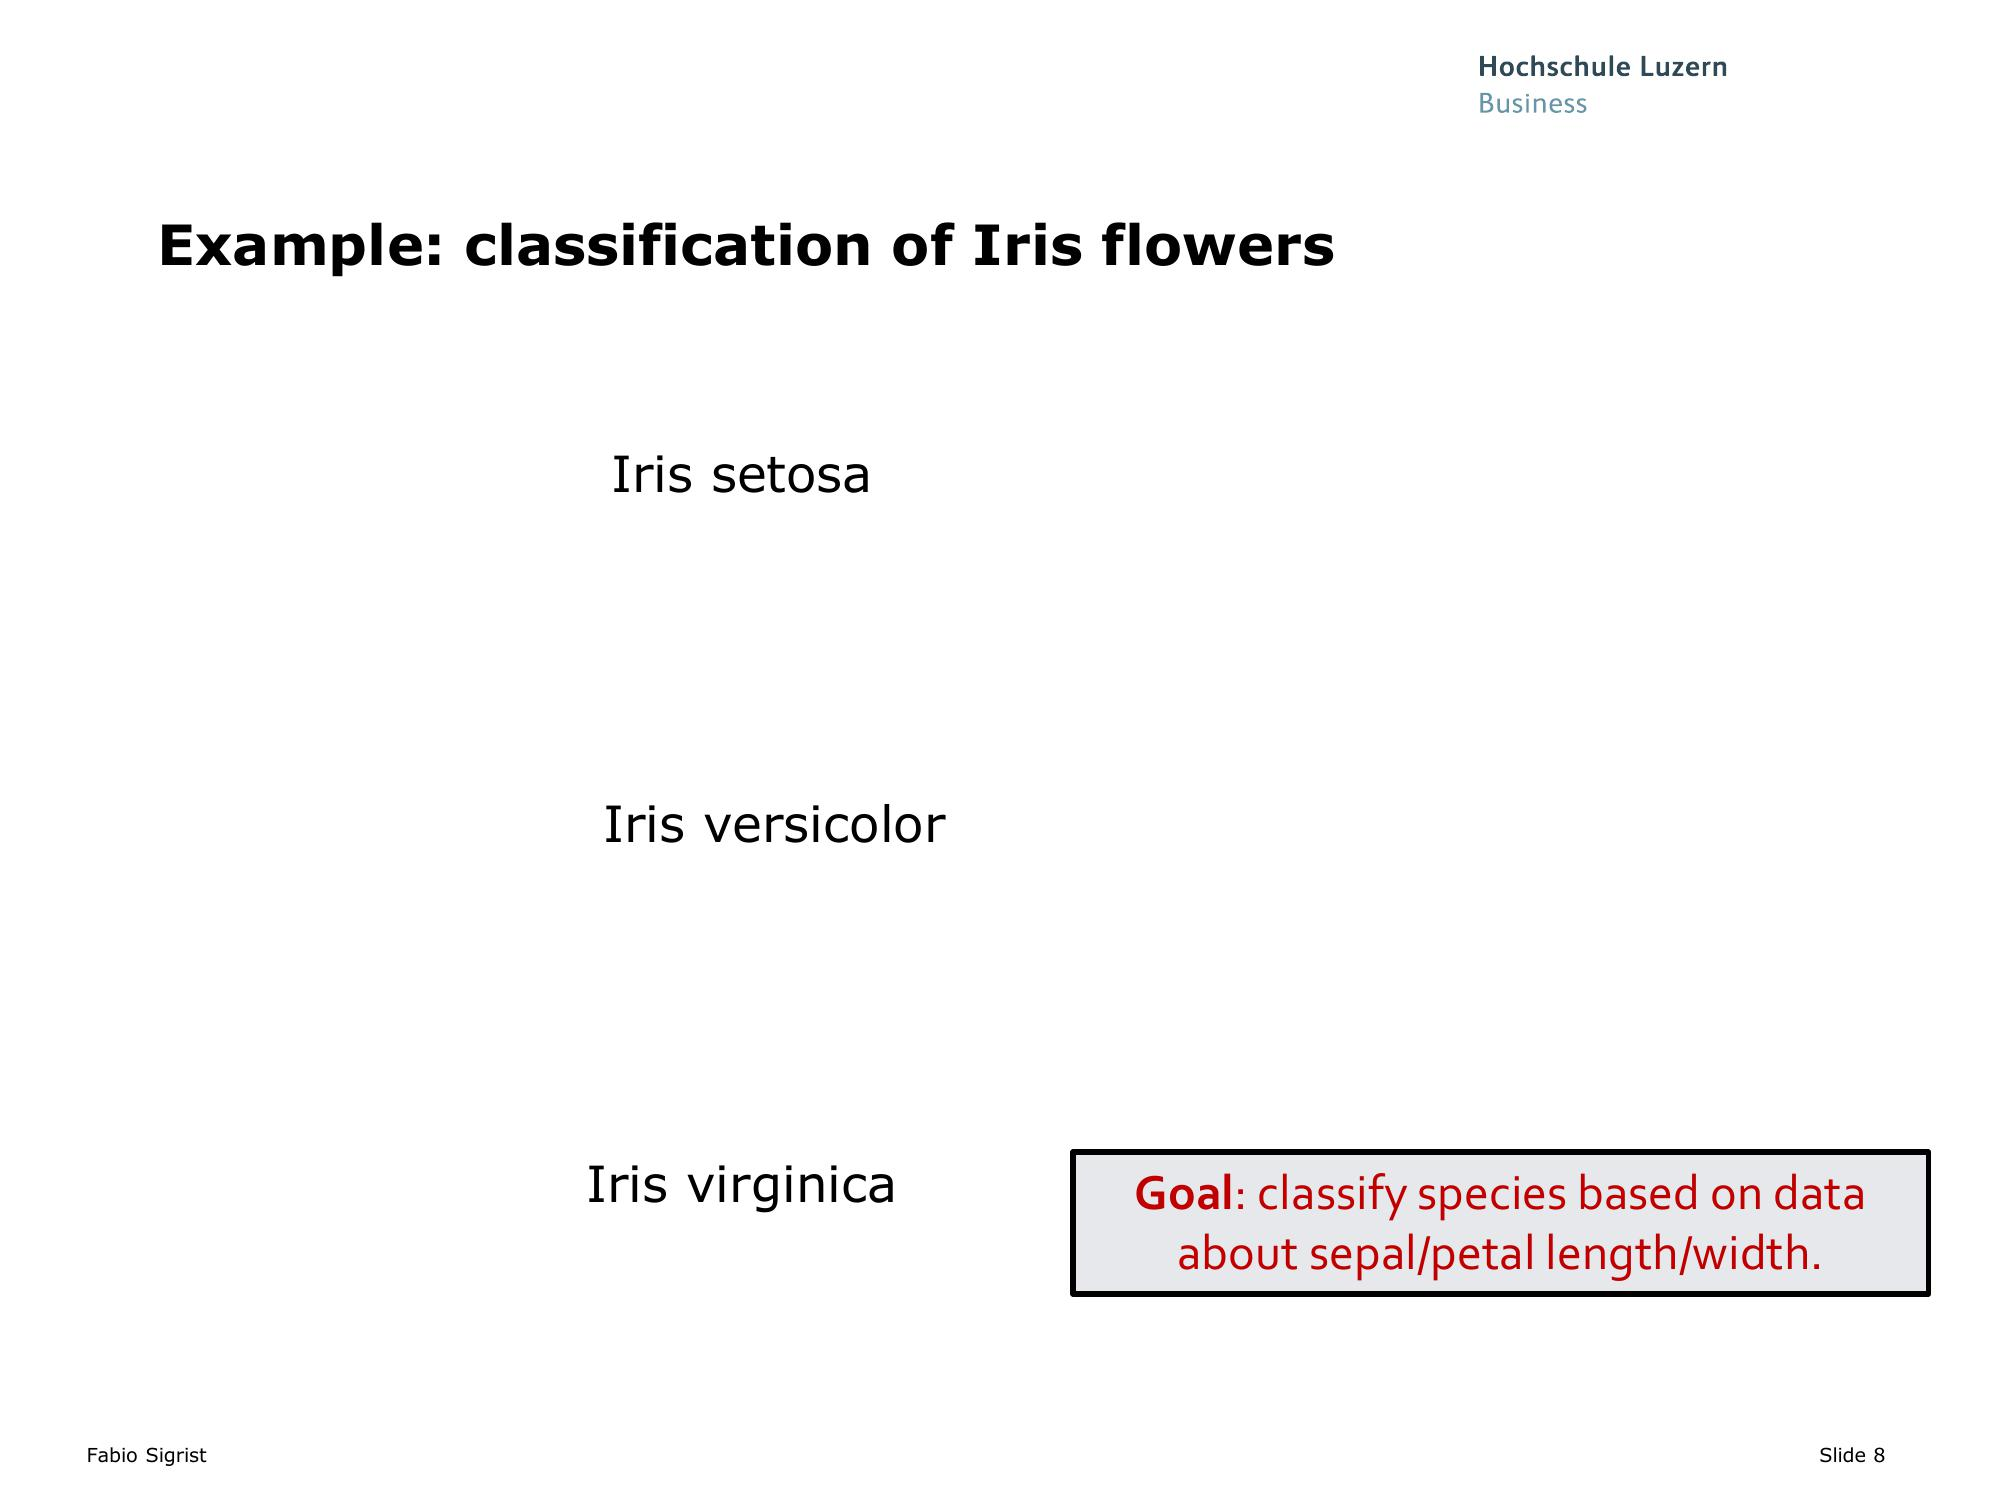Title: (135, 206, 1343, 299)
